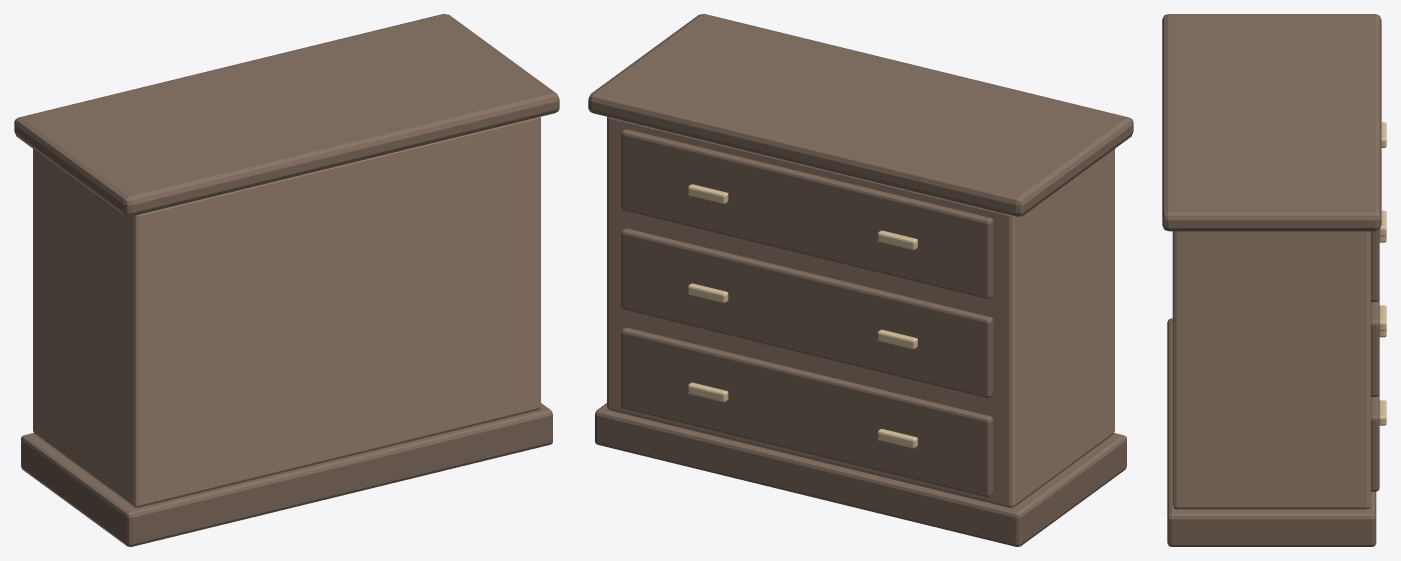
The model's file is Dresser.glb.
The picture shows the model from 3 angles, left to right: view 1: azimuth 30°, elevation 25°; view 2: azimuth 150°, elevation 25°; view 3: azimuth 270°, elevation 25°; orthographic projection. The views are drawn at different scales.
Visible parts, largest first — view 1: Dresser_Wood, Dresser_DarkWood; view 2: Dresser_DarkWood, Dresser_Wood, Dresser_Brass; view 3: Dresser_DarkWood, Dresser_Wood, Dresser_Brass.
Part boxes in pixels (box(x1,y1,x2,y2)): Dresser_Wood: box(33, 117, 540, 507); Dresser_DarkWood: box(14, 14, 559, 546); Dresser_DarkWood: box(588, 14, 1133, 546); Dresser_Wood: box(607, 117, 1114, 507); Dresser_Brass: box(688, 184, 917, 448); Dresser_DarkWood: box(1162, 14, 1381, 546); Dresser_Wood: box(1172, 231, 1370, 509); Dresser_Brass: box(1379, 122, 1386, 425).
Bounding box in the file's own units: 4.6 × 3.55 × 2.15.
